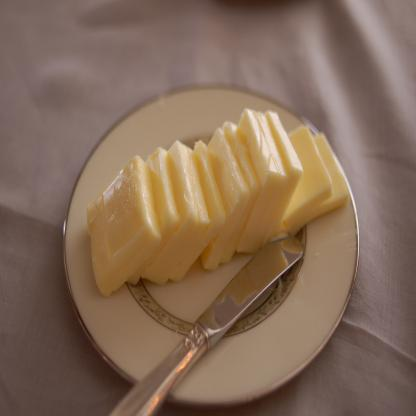butter: (233, 107, 302, 250), (146, 138, 202, 286), (91, 154, 153, 286), (278, 119, 343, 236)
